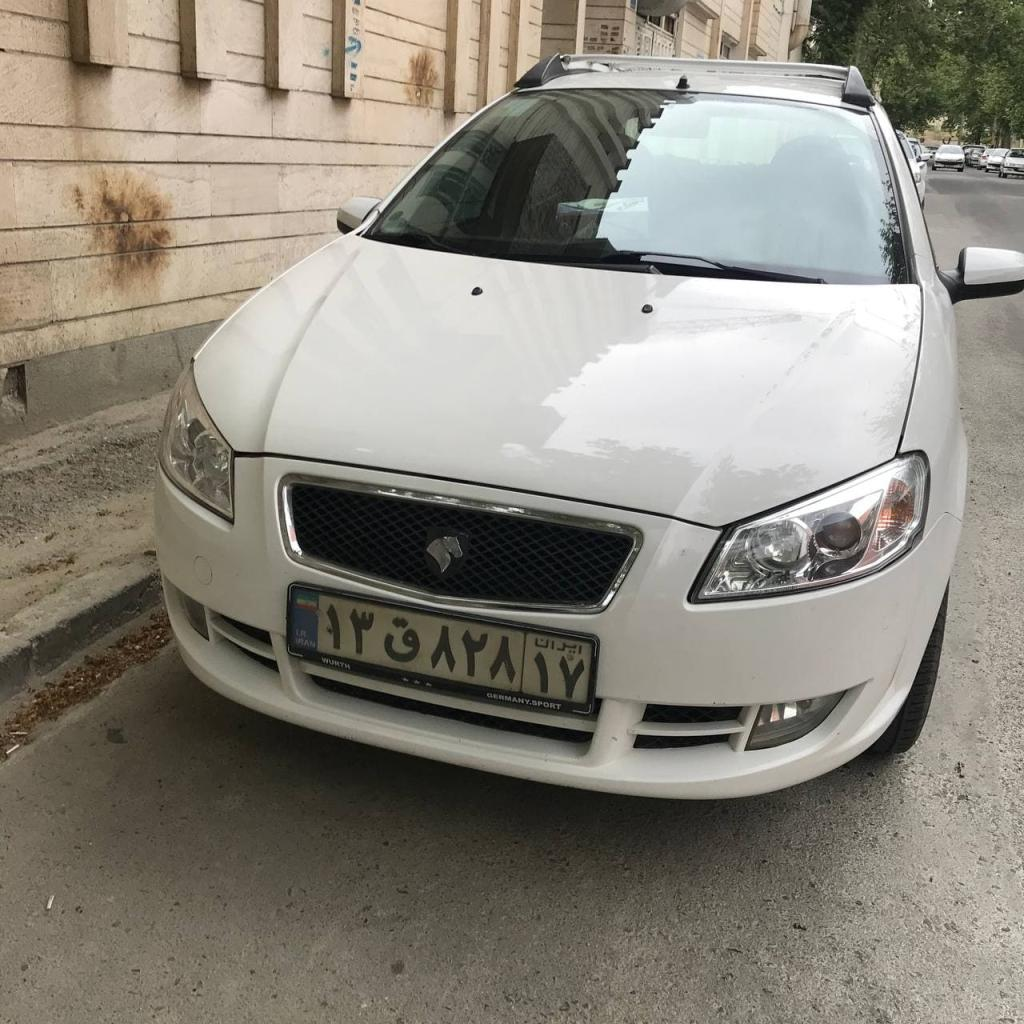Plates: (289, 588, 593, 704)
